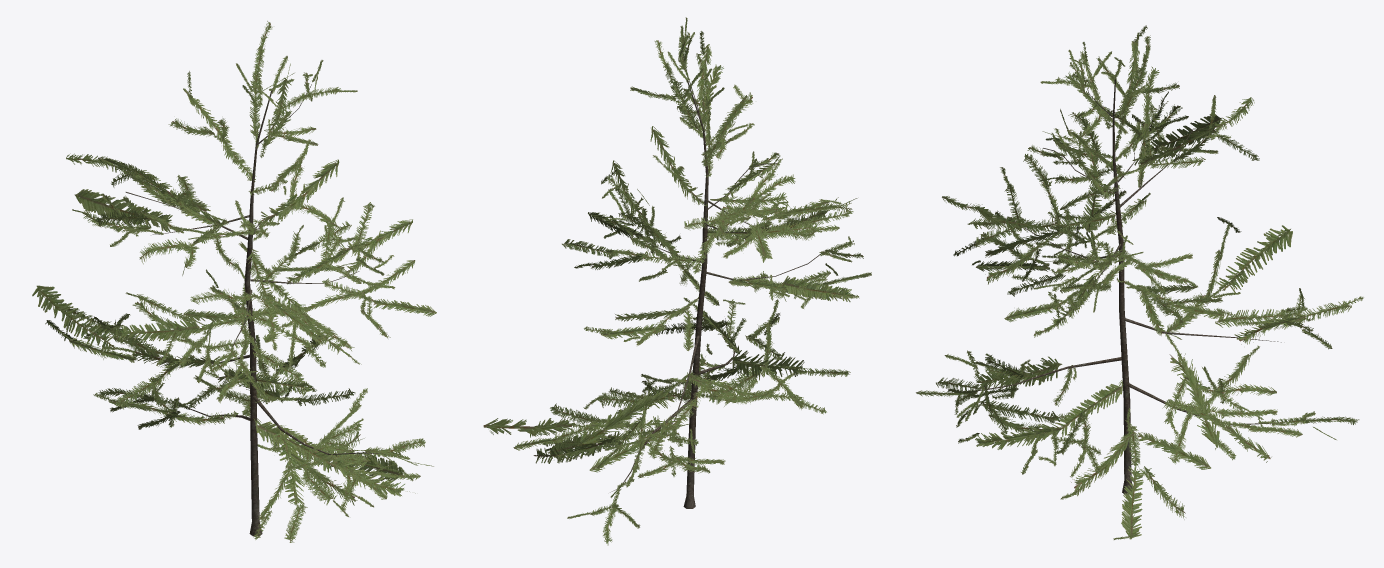
The model's file is fir-sapling-b.glb.
3 renders of one model, left to right at view 1: azimuth 30°, elevation 25°; view 2: azimuth 150°, elevation 25°; view 3: azimuth 270°, elevation 25°, orthographic. The views are drawn at different scales.
Parts seen in each view (by area): view 1: fir_sapling_b; view 2: fir_sapling_b; view 3: fir_sapling_b.
Boxes of the visible parts, bbox=[...] form: fir_sapling_b: bbox=[32, 21, 436, 542]; fir_sapling_b: bbox=[483, 17, 871, 545]; fir_sapling_b: bbox=[916, 25, 1363, 539].
Size of the model in its own units: 0.6631 by 0.9683 by 0.8506.
2 materials, 2 textured.
